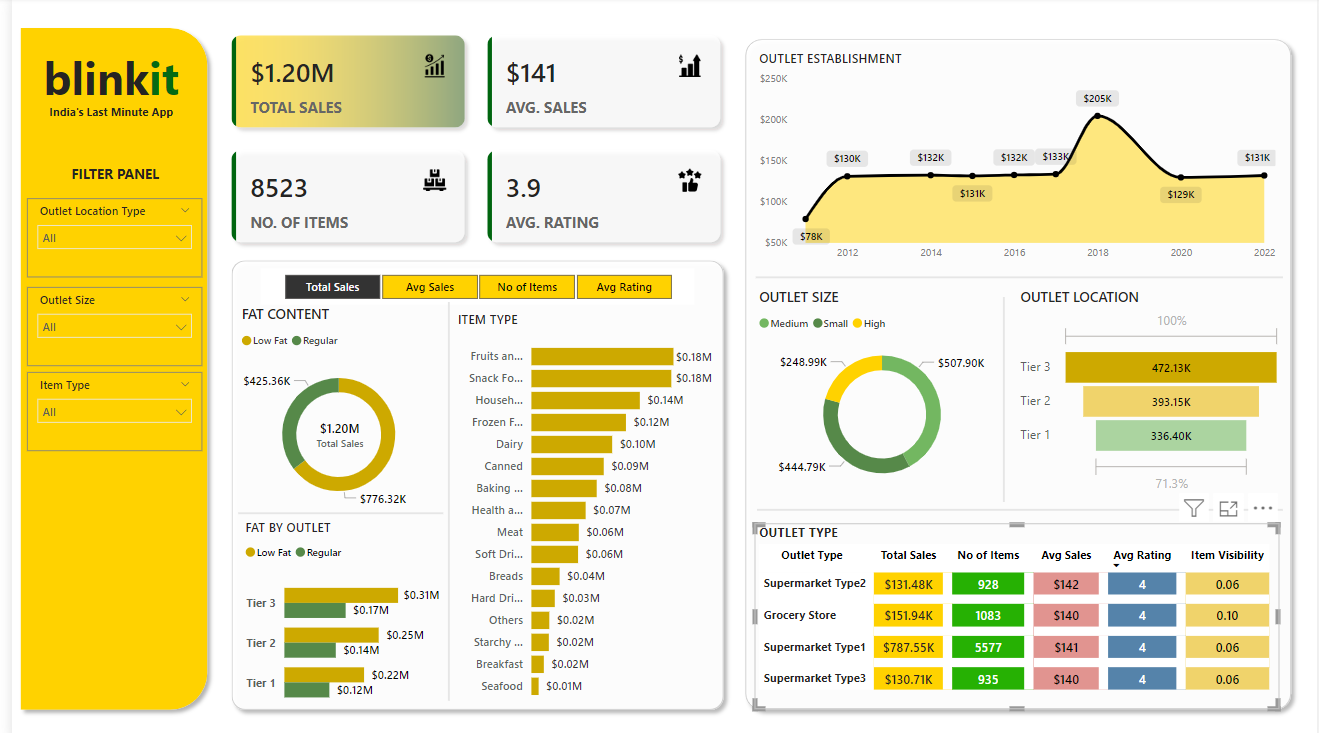

The dashboard page shown, as its layout file describes it:
{"tool":"powerbi","page":{"name":"Blinkit_Dashboard","canvas":[1400,800],"ordinal":0},"visuals":[{"type":"shape","box":[0,24.1,218.5,749.3],"z":0},{"type":"textbox","box":[16,48.1,180.7,75.8],"z":1000},{"type":"cardVisual","fields":{"Data":["BlinkIT Grocery Data.Total Sales","BlinkIT Grocery Data.Avg Sales","BlinkIT Grocery Data.No of Items","BlinkIT Grocery Data.Avg Rating"]},"box":[218.5,24.1,559,257.4],"z":2000},{"type":"shape","box":[226.5,273.5,545.6,500],"z":3000},{"type":"donutChart","title":"FAT CONTENT","fields":{"Y":["BlinkIT Grocery Data.Total Sales"],"Category":["BlinkIT Grocery Data.Item Fat Content"]},"box":[241.9,329.3,218.6,231.7],"z":4000},{"type":"slicer","fields":{"Values":["Metrics.Metrics"]},"box":[266.8,290.9,465.1,38.9],"z":5000},{"type":"cardVisual","fields":{"Data":["BlinkIT Grocery Data.Total Sales"]},"box":[305.6,434.3,92.5,69.7],"z":6000},{"type":"clusteredBarChart","title":"FAT BY OUTLET","fields":{"Y":["BlinkIT Grocery Data.Total Sales"],"Category":["BlinkIT Grocery Data.Outlet Location Type"],"Series":["BlinkIT Grocery Data.Item Fat Content"]},"box":[244.8,559.5,218.6,215.7],"z":7000},{"type":"shape","box":[242.6,546.9,219.8,13.4],"z":8000},{"type":"shape","box":[462.5,327.1,12.1,427.6],"z":9000},{"type":"barChart","title":"ITEM TYPE","fields":{"Y":["BlinkIT Grocery Data.Total Sales"],"Category":["BlinkIT Grocery Data.Item Type"]},"box":[473.6,336.6,282.7,426.9],"z":10000},{"type":"shape","box":[778.1,36.4,603.2,737.3],"z":11000},{"type":"lineChart","title":"OUTLET ESTABLISHMENT","fields":{"Y":["BlinkIT Grocery Data.Total Sales"],"Category":["BlinkIT Grocery Data.Outlet Establishment Year"]},"box":[795.6,56.8,563.9,234.6],"z":12000},{"type":"shape","box":[798.5,545,563.9,8.7],"z":13000},{"type":"donutChart","title":"OUTLET SIZE","fields":{"Y":["BlinkIT Grocery Data.Total Sales"],"Category":["BlinkIT Grocery Data.Outlet Size"]},"box":[795.6,310.4,273.9,225.9],"z":14000},{"type":"shape","box":[1057.6,321.7,12.1,219.8],"z":15000},{"type":"funnel","title":"OUTLET LOCATION","fields":{"Y":["Sum(BlinkIT Grocery Data.Sales)"],"Category":["BlinkIT Grocery Data.Outlet Location Type"]},"box":[1076.8,310.4,290,225.9],"z":16000},{"type":"shape","box":[797,295.8,565.4,8.7],"z":17000},{"type":"pivotTable","title":"OUTLET TYPE","fields":{"Rows":["BlinkIT Grocery Data.Outlet Type"],"Values":["BlinkIT Grocery Data.Total Sales","BlinkIT Grocery Data.No of Items","BlinkIT Grocery Data.Avg Sales","BlinkIT Grocery Data.Avg Rating","Avg(BlinkIT Grocery Data.Item Visibility)"]},"box":[795.6,563.9,563.9,199.6],"z":18000},{"type":"slicer","fields":{"Values":["BlinkIT Grocery Data.Outlet Location Type"]},"box":[16,215.7,188,84.5],"z":19000},{"type":"slicer","fields":{"Values":["BlinkIT Grocery Data.Outlet Size"]},"box":[16,310.4,188,84.5],"z":20000},{"type":"slicer","fields":{"Values":["BlinkIT Grocery Data.Item Type"]},"box":[16,402.2,188,84.5],"z":21000},{"type":"textbox","box":[20.1,174.3,181,32.2],"z":22000},{"type":"textbox","box":[15.8,108.3,180.8,32.5],"z":23000}]}

Visuals, with their boxes in screenshot pixels (x1, y1, x2, y2), scaled from the page's 1400x800 canvas onto the 1319x733 screenshot:
shape: [0, 22, 206, 709]
textbox: [15, 44, 185, 114]
cardVisual - BlinkIT Grocery Data.Total Sales x BlinkIT Grocery Data.Avg Sales: [206, 22, 733, 258]
shape: [213, 251, 727, 709]
"FAT CONTENT" donutChart: [228, 302, 434, 514]
slicer - Metrics.Metrics: [251, 267, 690, 302]
cardVisual - BlinkIT Grocery Data.Total Sales: [288, 398, 375, 462]
"FAT BY OUTLET" clusteredBarChart: [231, 513, 437, 710]
shape: [229, 501, 436, 513]
shape: [436, 300, 447, 691]
"ITEM TYPE" barChart: [446, 308, 713, 700]
shape: [733, 33, 1301, 709]
"OUTLET ESTABLISHMENT" lineChart: [750, 52, 1281, 267]
shape: [752, 499, 1284, 507]
"OUTLET SIZE" donutChart: [750, 284, 1008, 491]
shape: [996, 295, 1008, 496]
"OUTLET LOCATION" funnel: [1014, 284, 1288, 491]
shape: [751, 271, 1284, 279]
"OUTLET TYPE" pivotTable: [750, 517, 1281, 700]
slicer - BlinkIT Grocery Data.Outlet Location Type: [15, 198, 192, 275]
slicer - BlinkIT Grocery Data.Outlet Size: [15, 284, 192, 362]
slicer - BlinkIT Grocery Data.Item Type: [15, 369, 192, 446]
textbox: [19, 160, 189, 189]
textbox: [15, 99, 185, 129]
